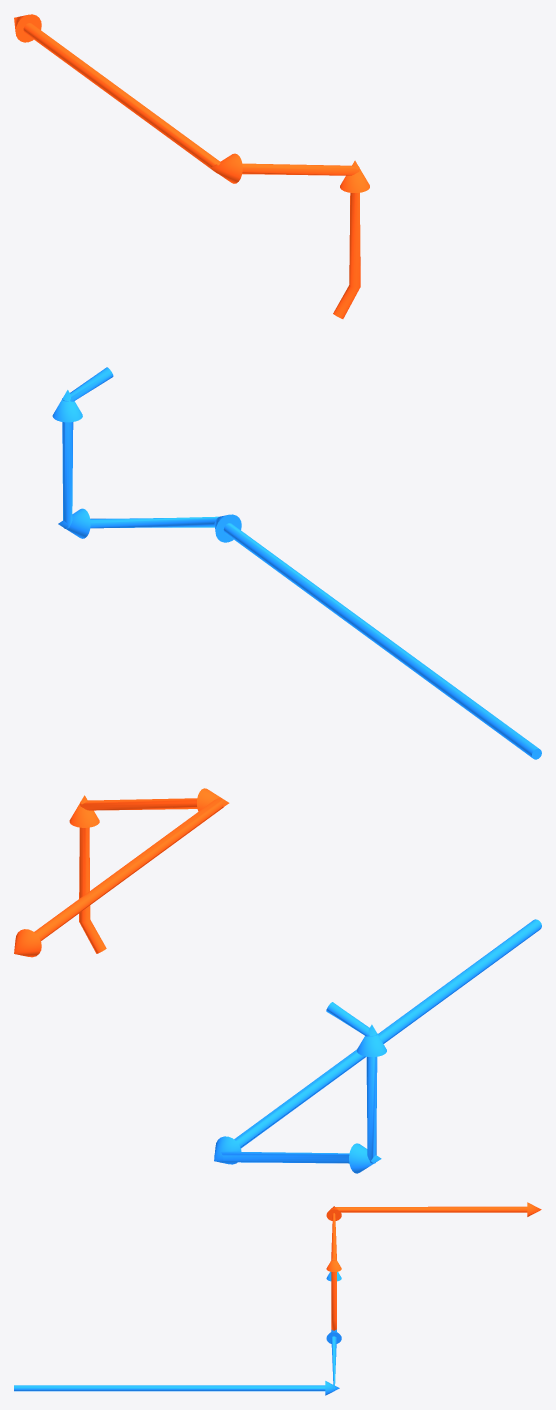
The model's file is piston_pump_flow.glb.
3 renders of one model, top to bottom at view 1: azimuth 30°, elevation 25°; view 2: azimuth 150°, elevation 25°; view 3: azimuth 270°, elevation 25°, orthographic. The views are drawn at different scales.
Parts seen in each view (by area): view 1: flow_in, flow_out; view 2: flow_in, flow_out; view 3: flow_in, flow_out.
Boxes of the visible parts, bbox=[...] form: flow_in: bbox=[52, 367, 541, 759]; flow_out: bbox=[14, 14, 369, 318]; flow_in: bbox=[214, 919, 541, 1173]; flow_out: bbox=[14, 788, 229, 957]; flow_in: bbox=[14, 1271, 341, 1395]; flow_out: bbox=[326, 1202, 541, 1330].
Size of the model in its own units: 0.3712 by 0.4312 by 1.07.
